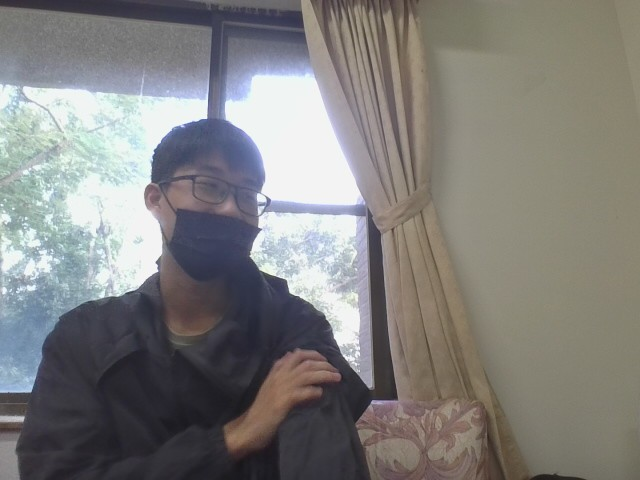No_Gloves: (249, 348, 341, 419)
No_Helmet: (143, 116, 269, 279)
person: (2, 102, 389, 479)
